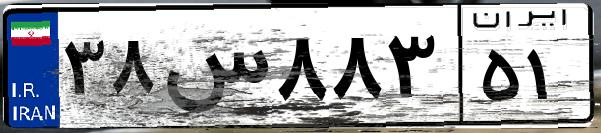1: (525, 38, 570, 115)
3: (385, 28, 445, 110), (57, 26, 110, 100)
5: (475, 38, 525, 113)
8: (270, 28, 330, 110), (330, 28, 385, 110), (110, 28, 158, 98)
س: (158, 20, 270, 120)
